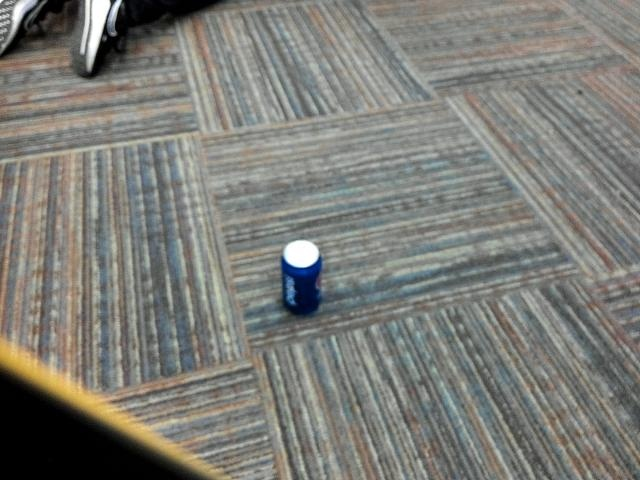can: (275, 238, 326, 318)
